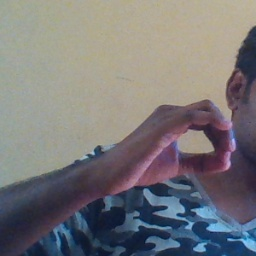O: (118, 93, 239, 187)
